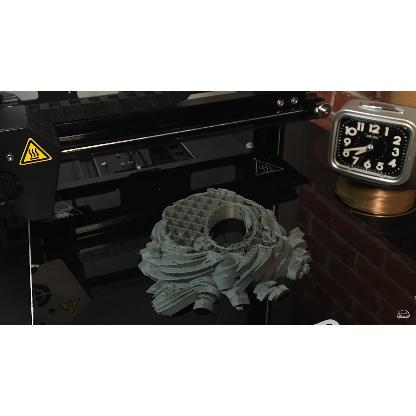fail: (209, 230, 253, 250)
